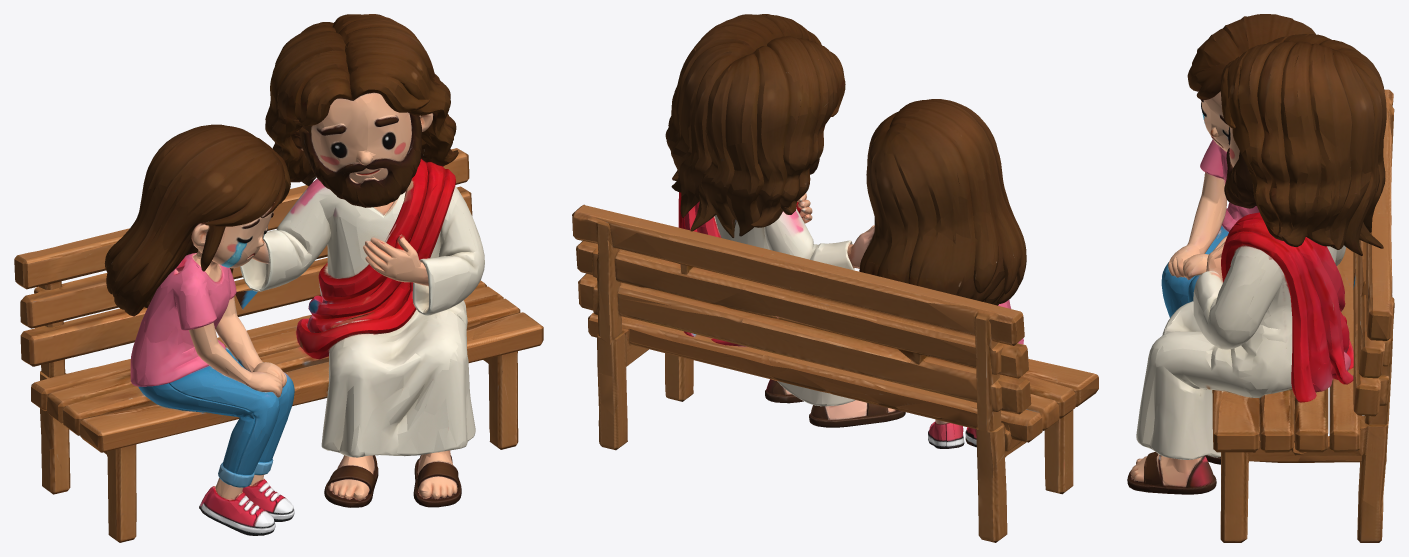
The model's file is char9.glb.
The picture shows the model from 3 angles, left to right: view 1: azimuth 30°, elevation 25°; view 2: azimuth 150°, elevation 25°; view 3: azimuth 270°, elevation 25°; orthographic projection. The views are drawn at different scales.
Visible parts, largest first — view 1: output_unwrapped; view 2: output_unwrapped; view 3: output_unwrapped.
Boxes of the visible parts, left/top/right/bottom form: output_unwrapped: left=14, top=14, right=543, bottom=542; output_unwrapped: left=572, top=14, right=1098, bottom=542; output_unwrapped: left=1127, top=14, right=1394, bottom=542.
Size of the model in its own units: 1.9 by 1.73 by 0.9543.
1 material, 1 textured.
